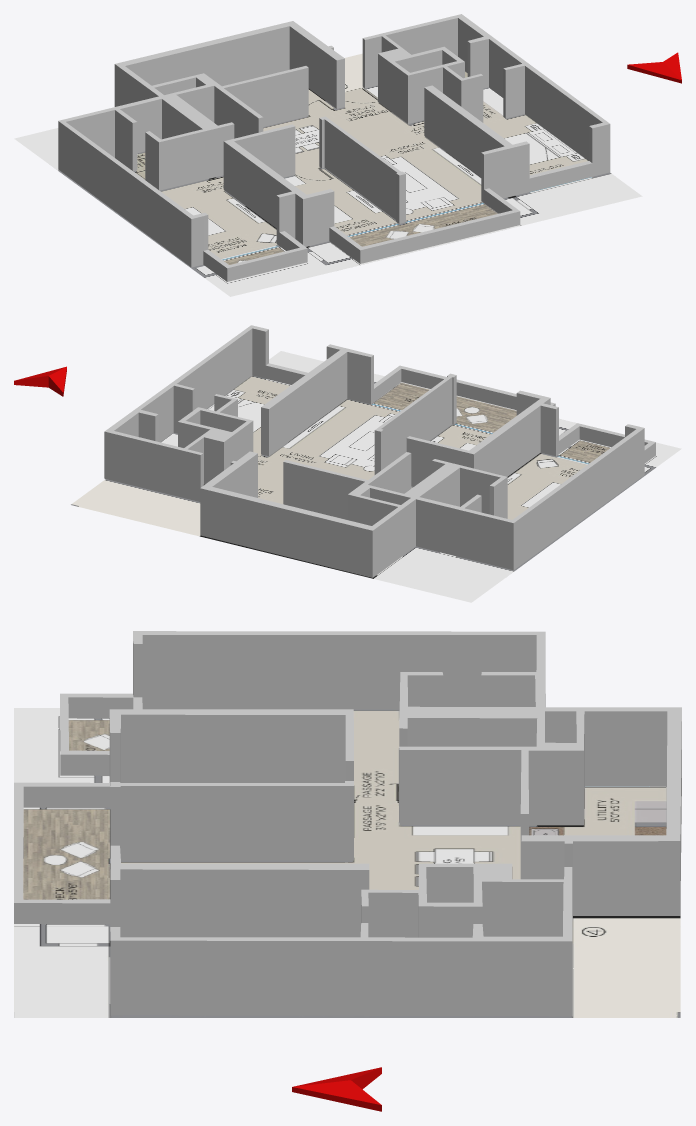
File: cutout_map1.glb
3 views of the same model, one above another, from view 1: azimuth 30°, elevation 25°; view 2: azimuth 150°, elevation 25°; view 3: azimuth 270°, elevation 25° (orthographic). The views are drawn at different scales.
Visible parts, largest first — view 1: Plane, Plane.001, pointer; view 2: Plane, Plane.001, pointer; view 3: Plane, Plane.001, pointer.
Boxes of the visible parts, <box> form: Plane: <box>58,14,610,281</box>; Plane.001: <box>14,53,642,296</box>; pointer: <box>627,52,681,83</box>; Plane: <box>104,325,655,577</box>; Plane.001: <box>71,351,681,602</box>; pointer: <box>14,366,66,396</box>; Plane: <box>14,631,681,1016</box>; Plane.001: <box>14,708,680,1017</box>; pointer: <box>292,1067,381,1111</box>.
Bounding box in the file's own units: 0.2034 × 0.017 × 0.1346.
Materials: 3 (1 with a texture image).
